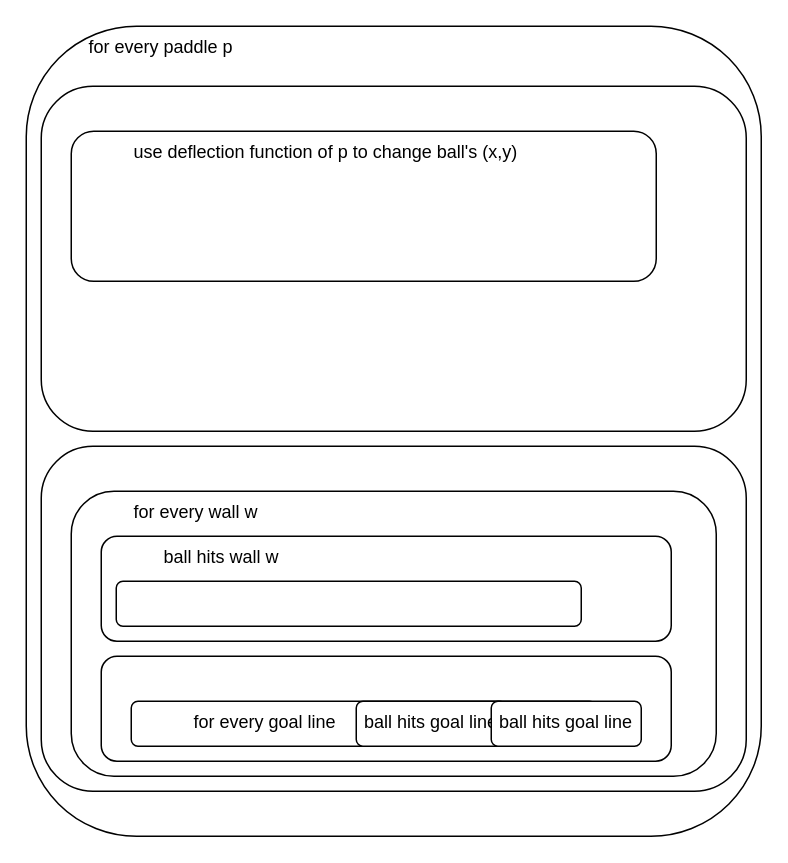
Some shapes in this 788 by 863 pixel diagram are drawn without their labels. The box of each missing label's shape, as (x1, y1, x2, y2) in pixels:
ball doesn't hit paddle p: (40, 445, 746, 791)
ball doesn't hit wall w: (100, 655, 671, 761)
ball hits paddle p: (40, 85, 746, 431)
use w's deflection function to change ball's (x,y): (115, 580, 581, 626)
